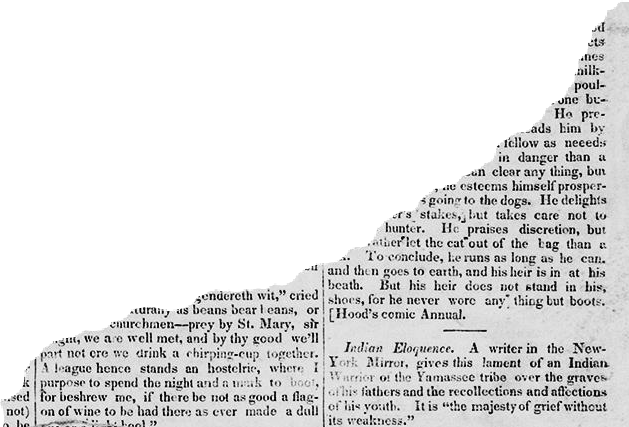news_paper: (3, 5, 629, 427)
